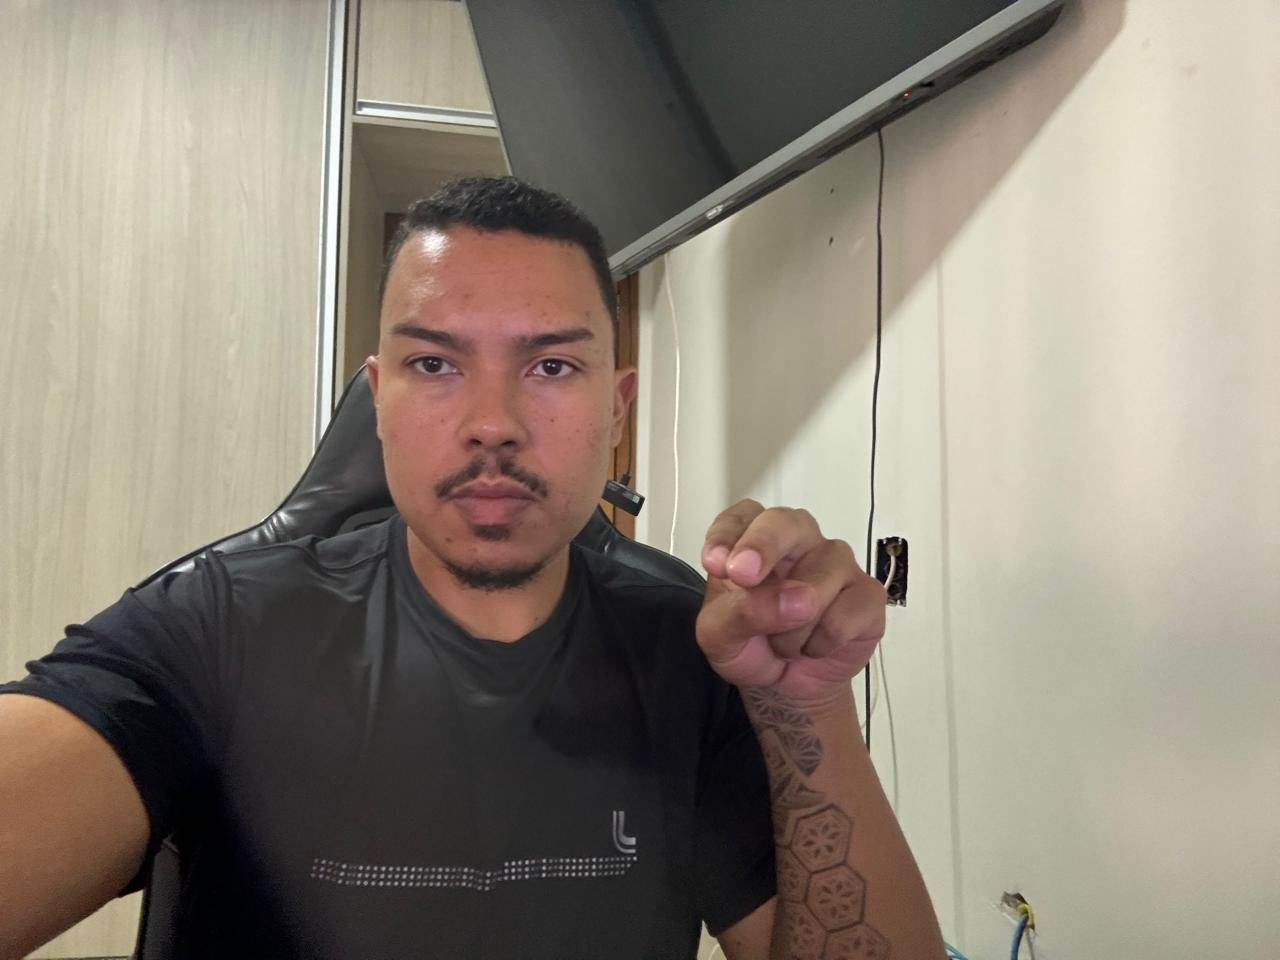n: (689, 492, 888, 717)
